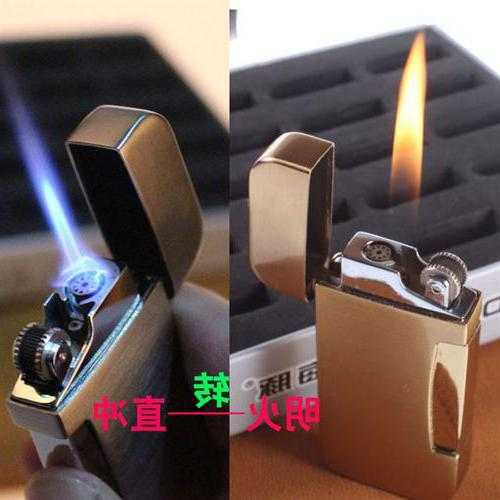fire: (17, 103, 122, 297), (385, 19, 439, 236)
